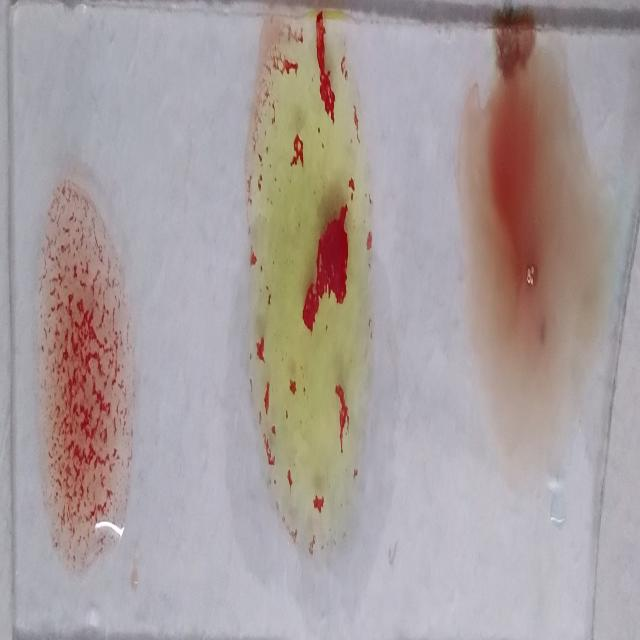B: (254, 18, 370, 560)
D: (39, 183, 130, 586)
